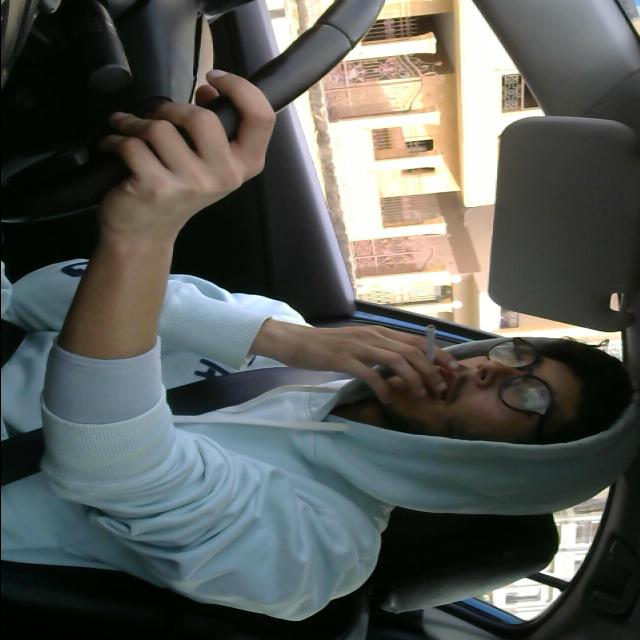smoking: (419, 317, 439, 391)
